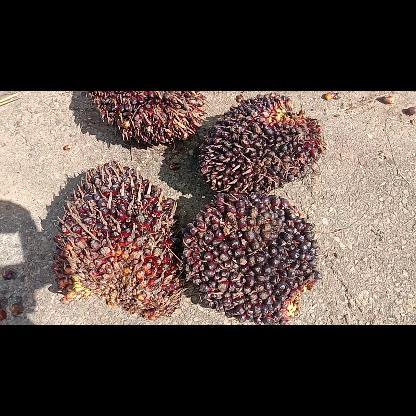TBS mentah: (52, 160, 188, 318), (182, 191, 322, 324), (197, 91, 325, 193), (88, 90, 209, 144)
